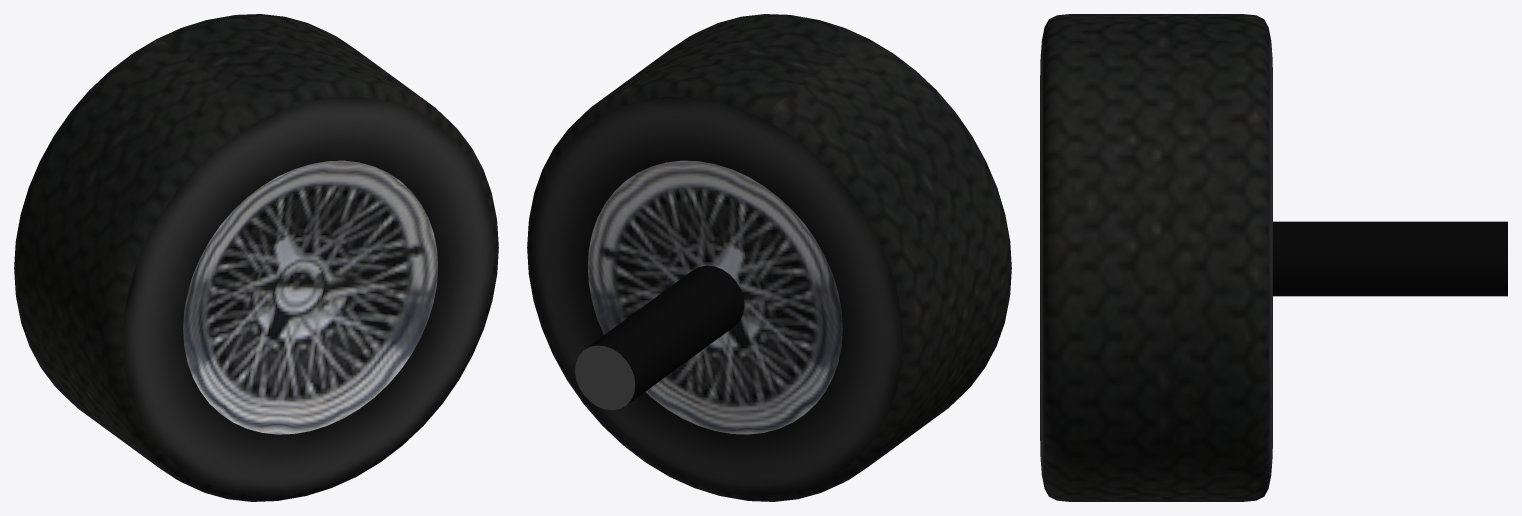
Rendered from LLantaDD.obj.
3 renders of one model, left to right at view 1: azimuth 30°, elevation 25°; view 2: azimuth 150°, elevation 25°; view 3: azimuth 270°, elevation 25°, orthographic. The views are drawn at different scales.
Parts seen in each view (by area): view 1: LlantaDIz; view 2: LlantaDIz; view 3: LlantaDIz.
Part boxes in pixels (box(x1,y1,x2,y2)): LlantaDIz: box(14, 14, 498, 501); LlantaDIz: box(527, 14, 1011, 501); LlantaDIz: box(1040, 14, 1507, 501).
Size of the model in its own units: 2.77 by 2.77 by 2.65.
